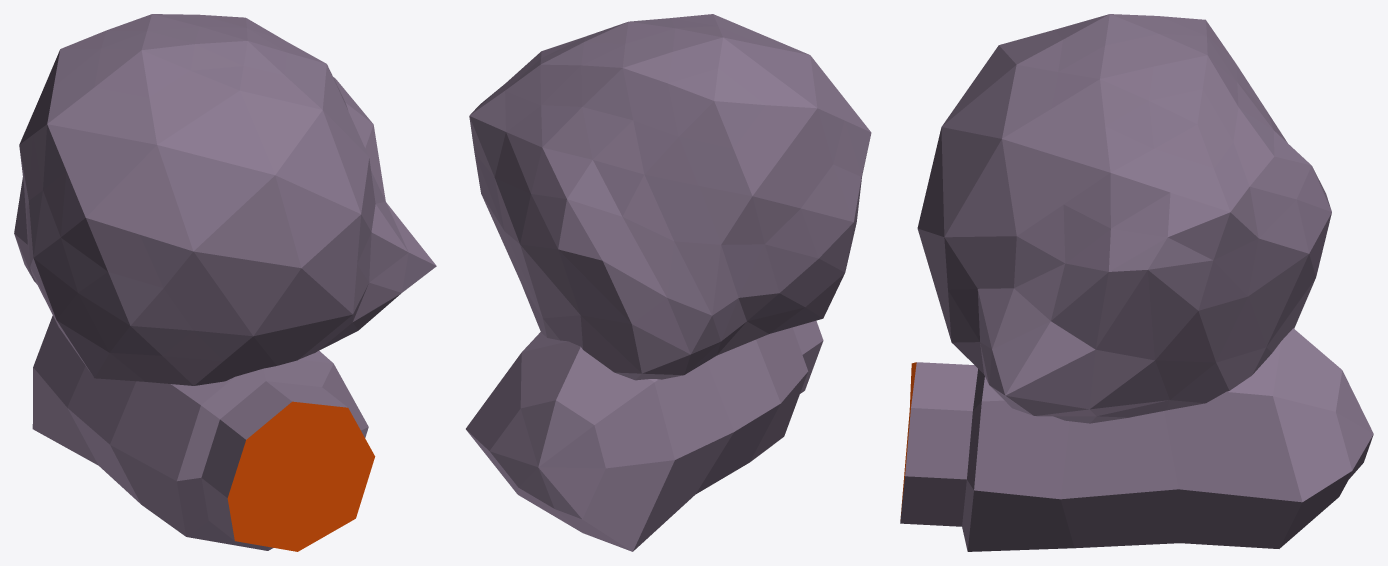
The model's file is RogalikPlayer.fbx.
3 views of the same model, side by side, from view 1: azimuth 30°, elevation 25°; view 2: azimuth 150°, elevation 25°; view 3: azimuth 270°, elevation 25° (orthographic). The views are drawn at different scales.
Parts seen in each view (by area): view 1: Icosphere; view 2: Icosphere; view 3: Icosphere.
Part boxes in pixels (bbox=[...]): Icosphere: bbox=[14, 14, 436, 551]; Icosphere: bbox=[466, 14, 871, 551]; Icosphere: bbox=[900, 14, 1373, 551].
Size of the model in its own units: 350 by 429 by 369.
